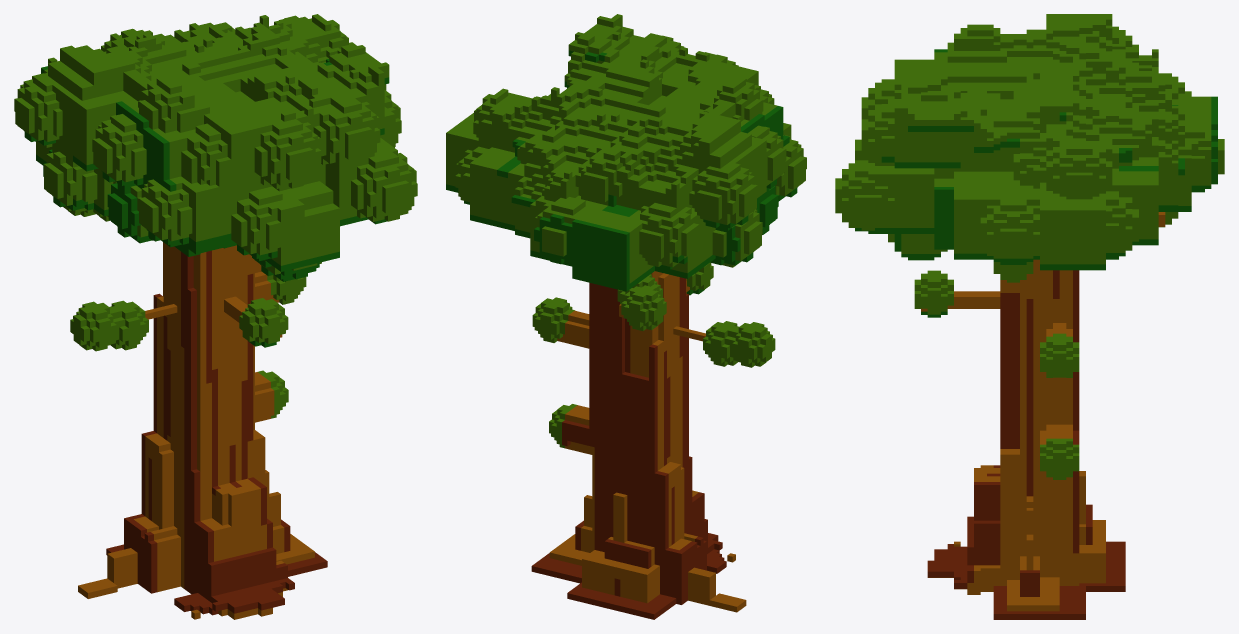
Rendered from tree4.fbx.
3 renders of one model, left to right at view 1: azimuth 30°, elevation 25°; view 2: azimuth 150°, elevation 25°; view 3: azimuth 270°, elevation 25°, orthographic. The views are drawn at different scales.
Parts seen in each view (by area): view 1: Tree_4 (2); view 2: Tree_4 (2); view 3: Tree_4 (2).
Boxes of the visible parts, x1,y1,x2,y2 form: Tree_4 (2): (14, 14, 417, 619); Tree_4 (2): (446, 14, 806, 619); Tree_4 (2): (835, 14, 1224, 619).
Bounding box in the file's own units: 291 × 446 × 306.
